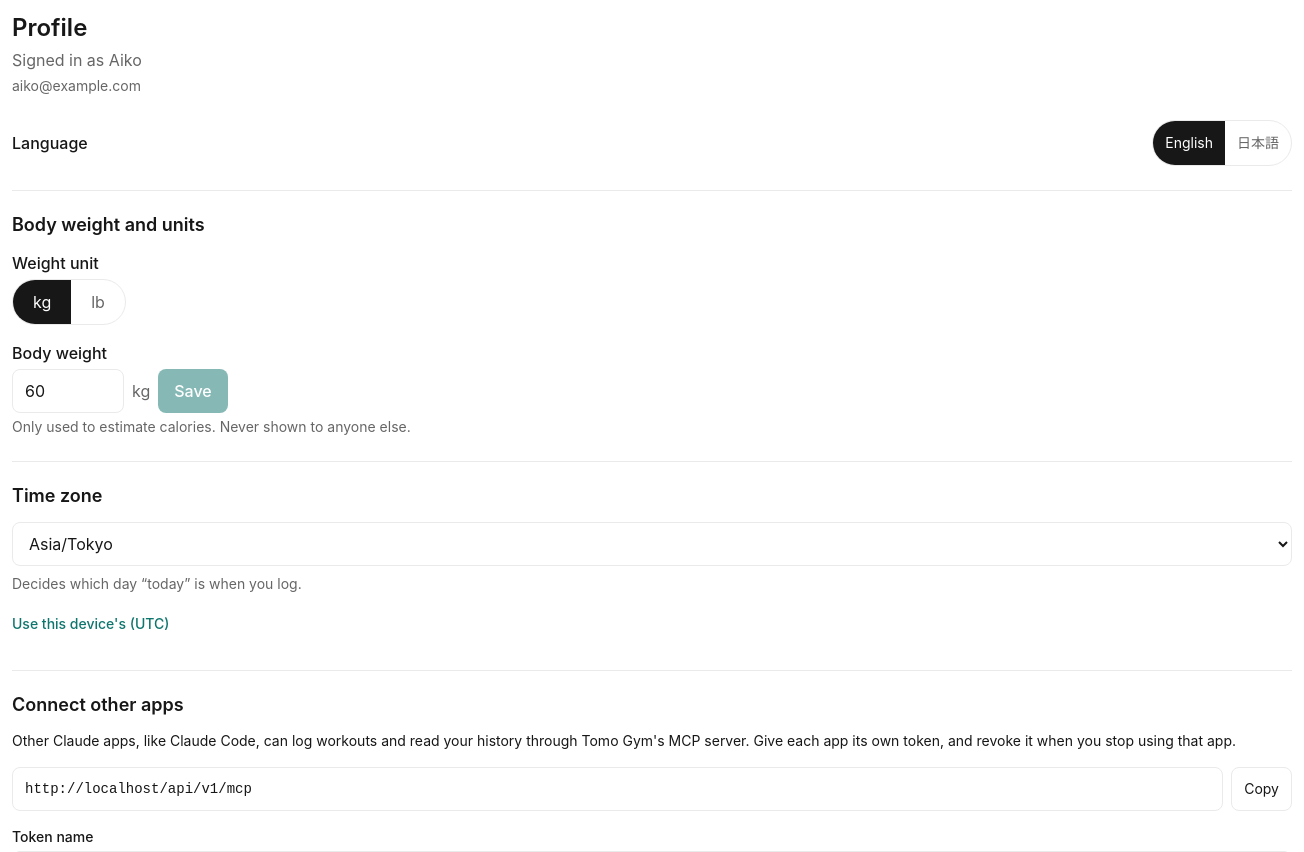
Test: Profile › explains a body weight the server refuses
Expected: the text "Signed in as Aiko" is shown, [12,50,142,70]
Replace the text in the field labelled "Body weight" with "5" at (68, 391), box [12,369,124,413]
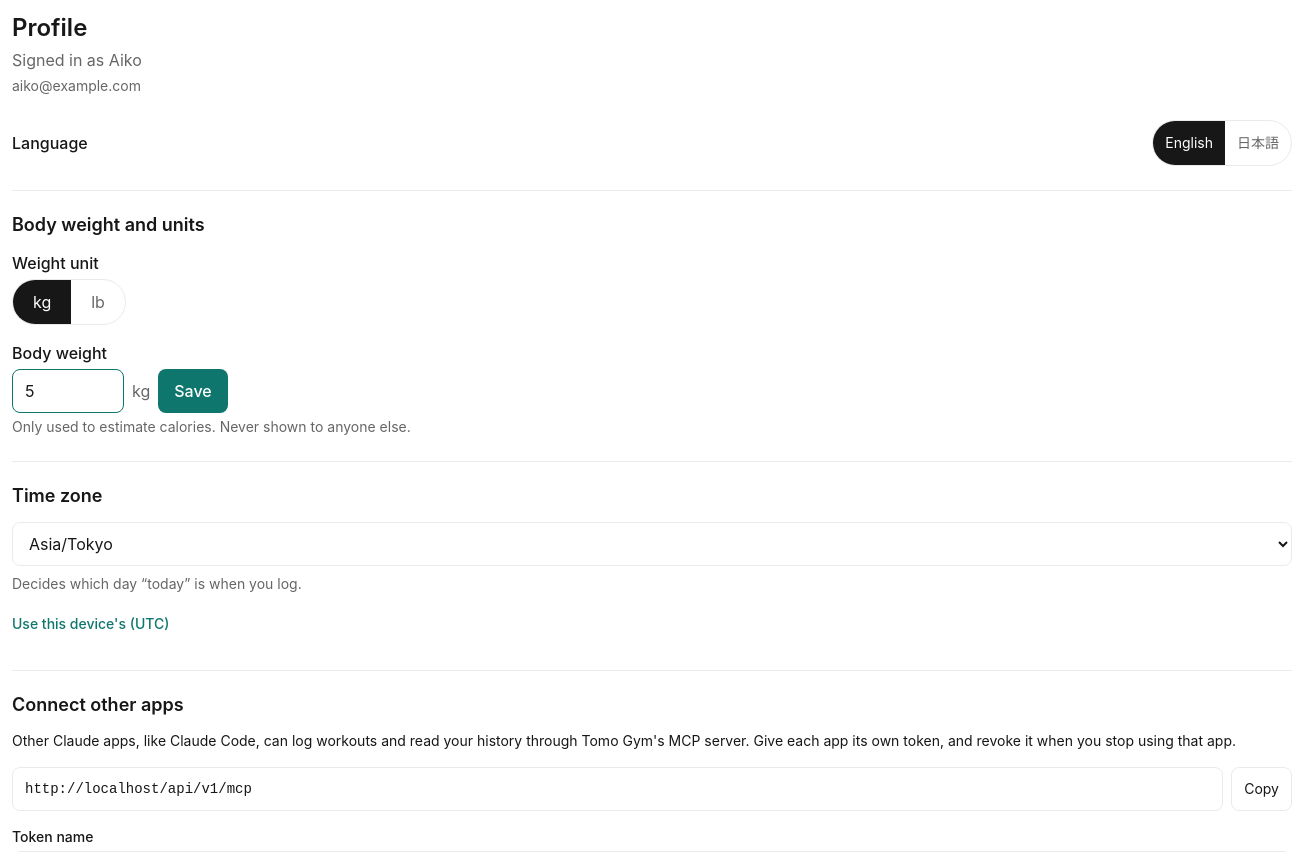
Click the button "Save" at (193, 391), box [158,369,228,413]
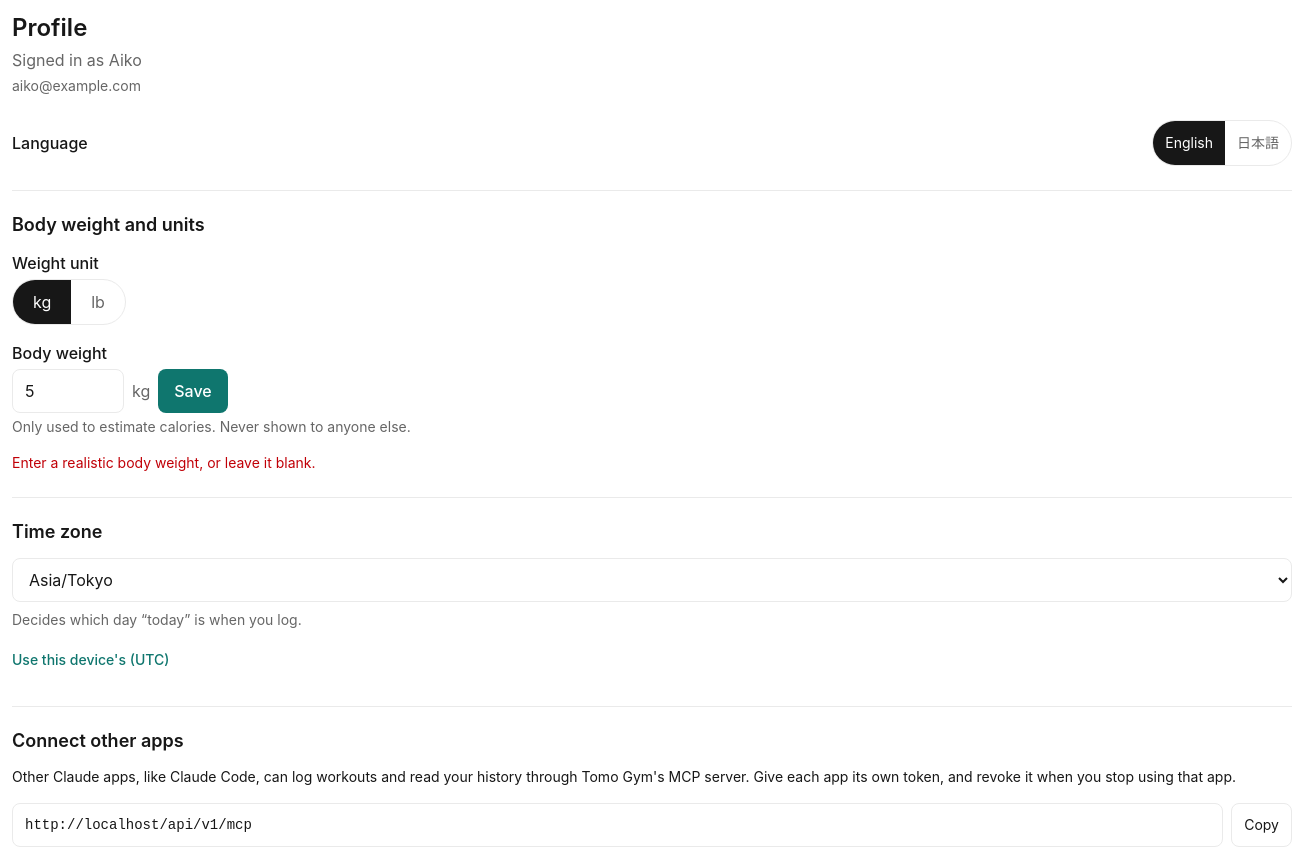
Expected: the message shows "Enter a realistic body weight", [12,454,316,471]
